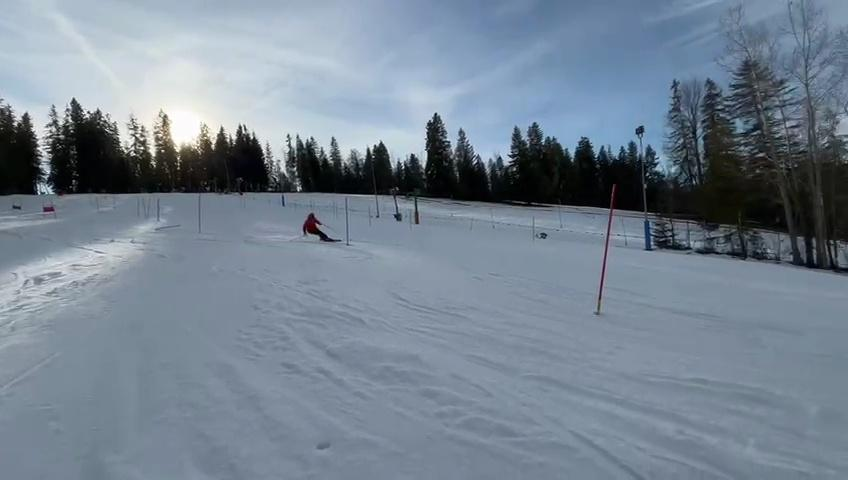gate: (578, 171, 625, 335), (341, 191, 357, 248), (147, 219, 187, 236), (193, 189, 207, 236), (156, 196, 162, 222), (133, 195, 140, 217)
